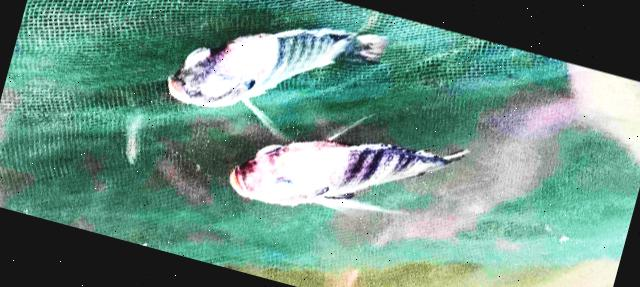Columnaris Disease: (168, 26, 389, 106), (230, 139, 468, 209), (230, 139, 467, 209)
